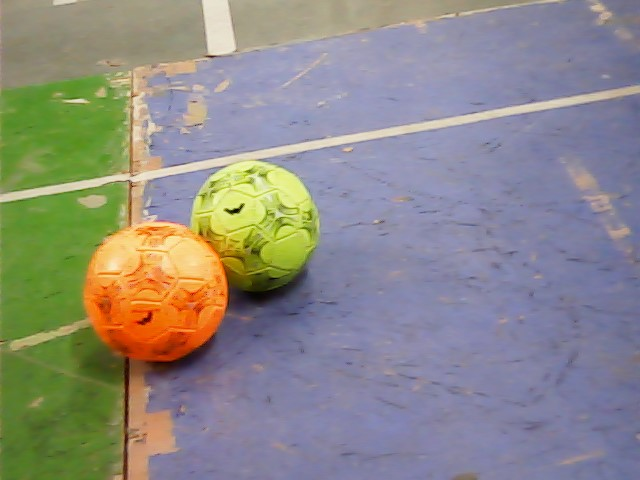Green_ball: (187, 161, 330, 294)
Orange_ball: (81, 222, 233, 366)
